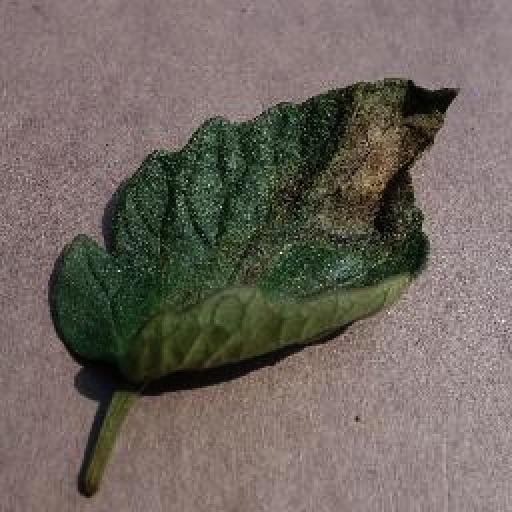disease_tomato: (52, 80, 460, 378)
